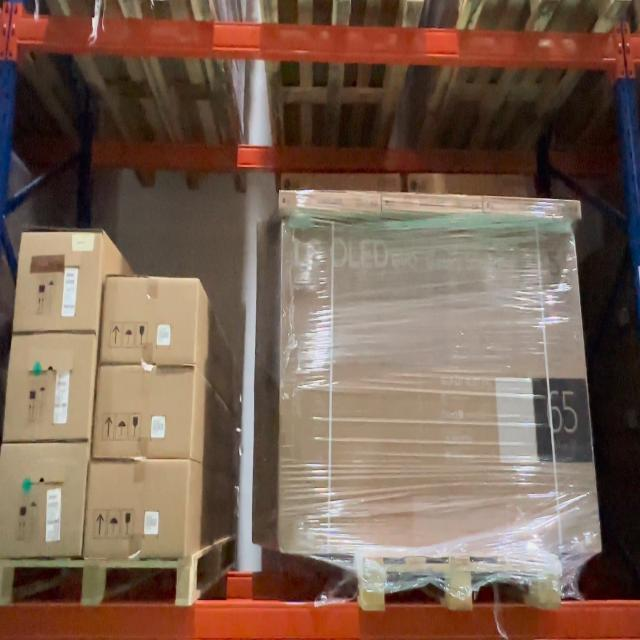box: (284, 229, 576, 550), (13, 340, 88, 440), (94, 469, 185, 550), (100, 374, 188, 455), (106, 284, 192, 362), (22, 240, 92, 328), (280, 190, 381, 216), (382, 196, 482, 214), (482, 199, 581, 216)
